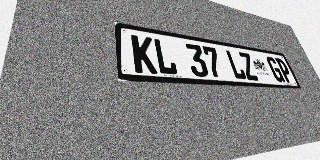3: (185, 43, 209, 77)
7: (201, 46, 225, 78)
G: (265, 56, 286, 82)
K: (131, 34, 158, 74)
L: (152, 38, 178, 75), (225, 50, 247, 80)
P: (275, 58, 294, 83)
Z: (237, 52, 259, 81)
